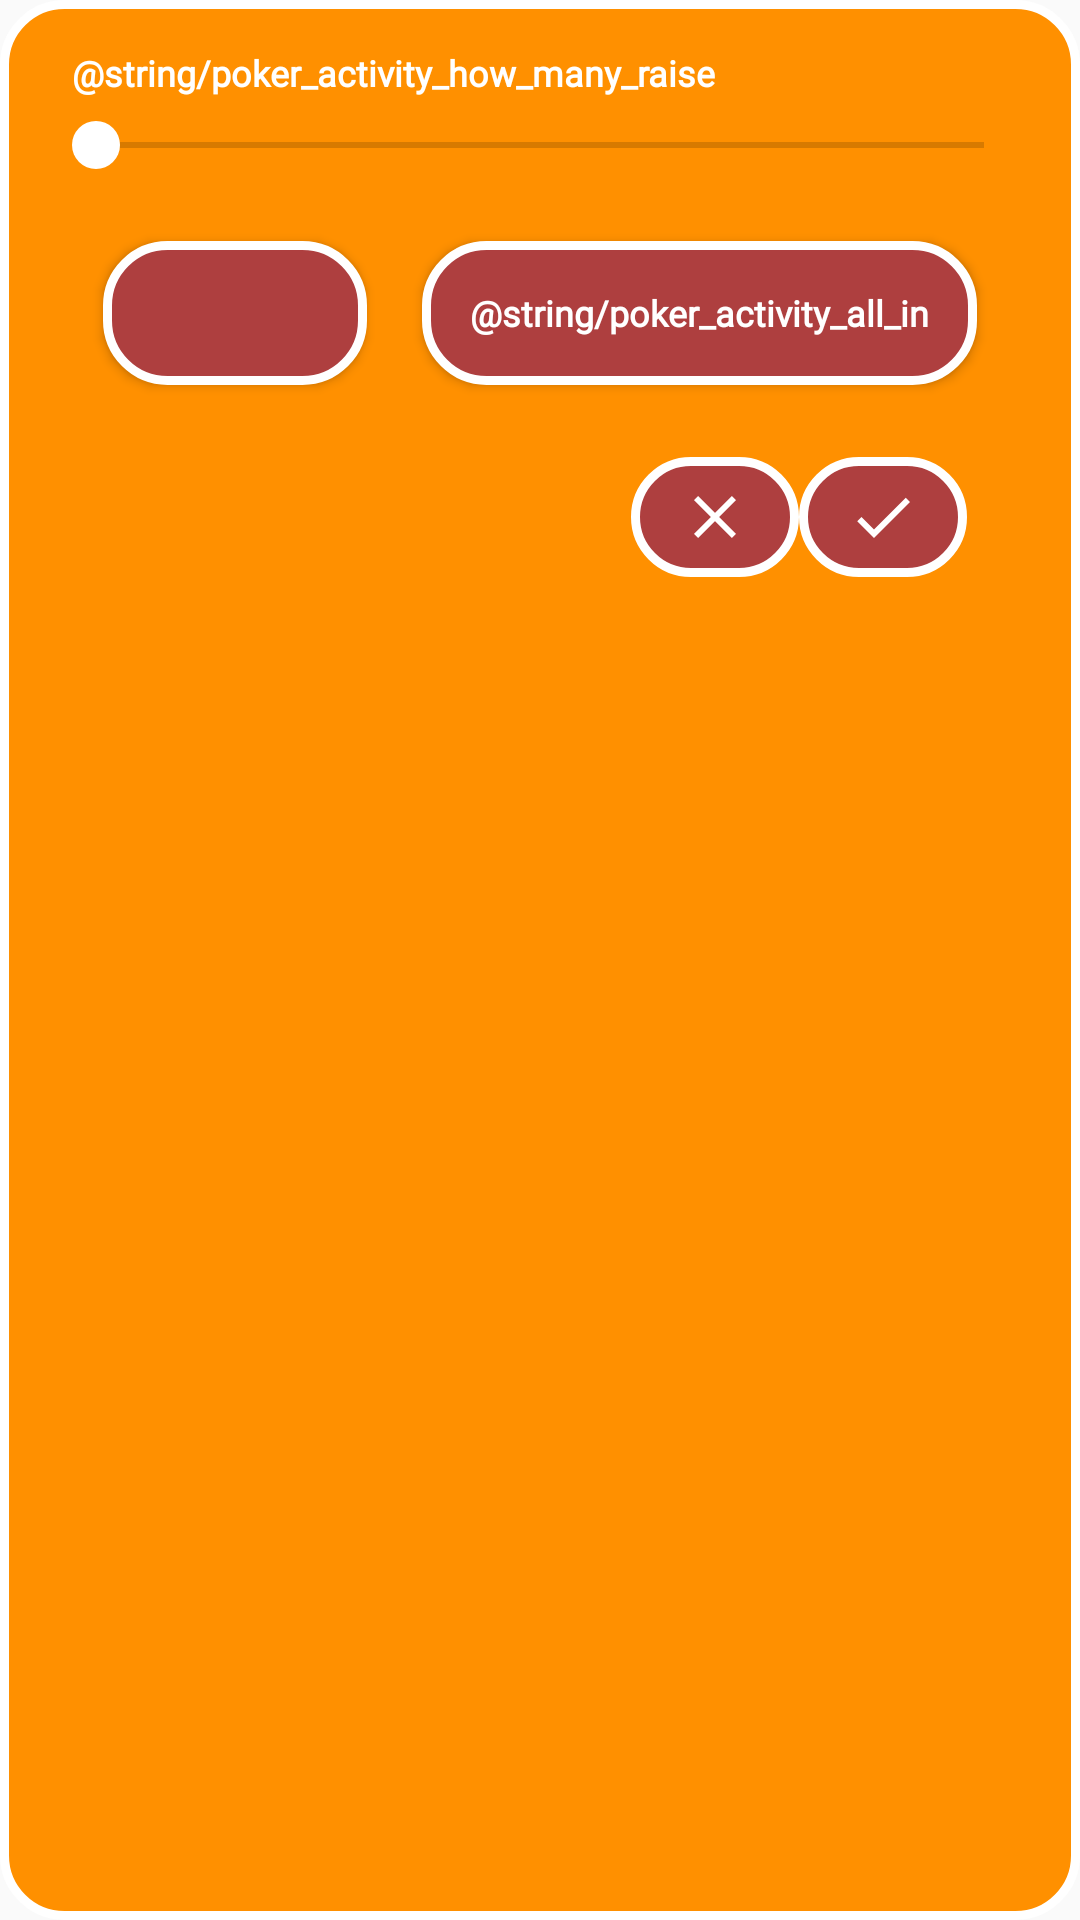

Icons on this 1080 × 1920 Android screen, each with the point to tap as (x=x, y=y):
check: (x=883, y=517)
close: (x=715, y=517)
